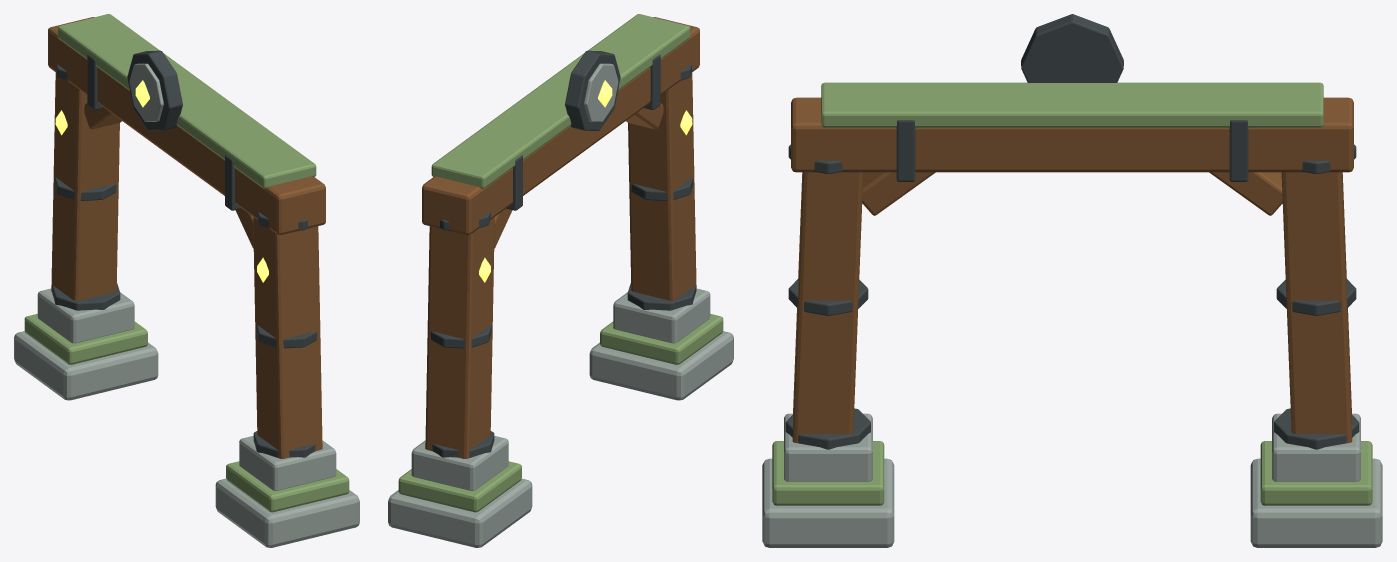
File: SM_EmbermereRoadGate_01.fbx
3 views of the same model, side by side, from view 1: azimuth 30°, elevation 25°; view 2: azimuth 150°, elevation 25°; view 3: azimuth 270°, elevation 25° (orthographic). The views are drawn at different scales.
Visible parts, largest first — view 1: SM_EmbermereRoadGate_01; view 2: SM_EmbermereRoadGate_01; view 3: SM_EmbermereRoadGate_01.
Part boxes in pixels (x1,y1,x2,y2): SM_EmbermereRoadGate_01: (14, 14, 359, 547); SM_EmbermereRoadGate_01: (388, 14, 733, 547); SM_EmbermereRoadGate_01: (762, 14, 1382, 547).
Size of what is drawn, in the model's own units: 96 by 432 by 374.
